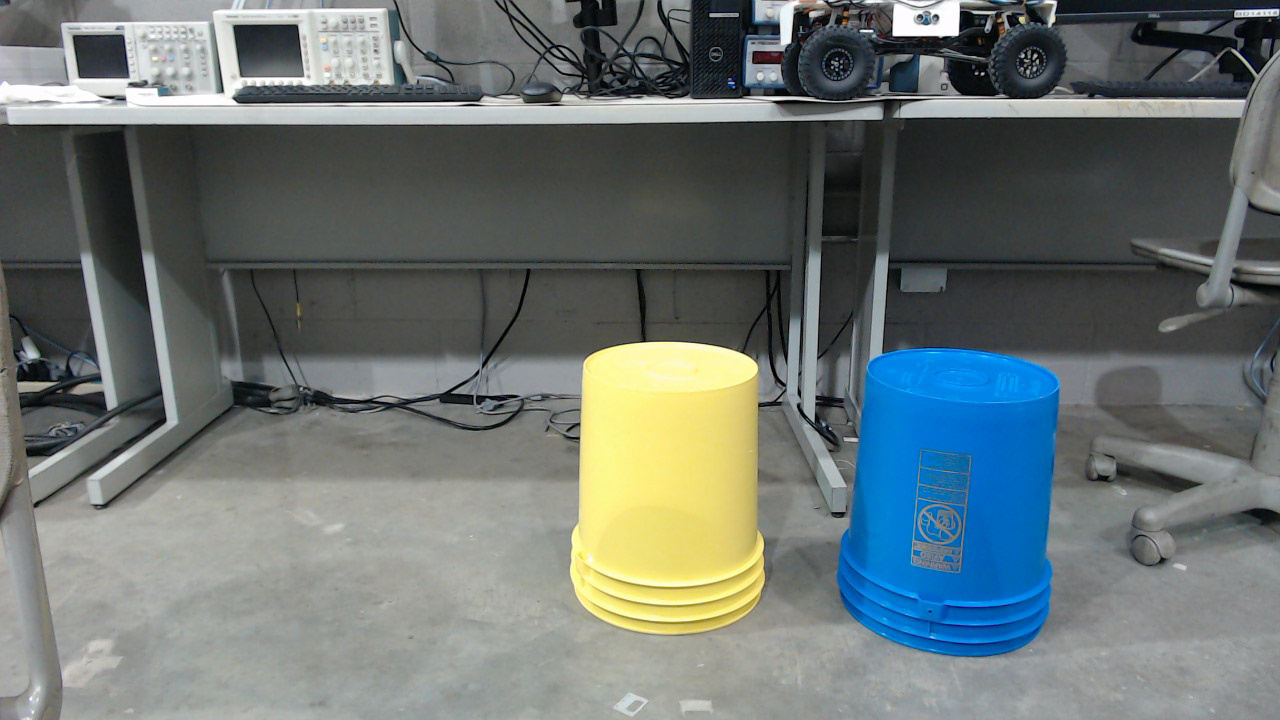blue_bucket: (843, 350, 1068, 664)
yellow_bucket: (572, 342, 773, 642)
